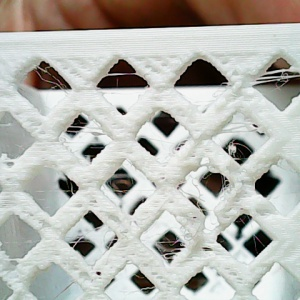3dpstringing: (210, 118, 273, 167), (134, 225, 202, 267), (59, 113, 116, 161), (217, 218, 273, 264), (62, 217, 119, 262), (22, 170, 83, 211), (186, 170, 235, 217), (101, 172, 160, 206), (29, 64, 83, 99), (135, 132, 190, 165), (104, 272, 165, 298), (100, 69, 148, 101), (37, 272, 86, 298), (249, 67, 298, 93), (195, 80, 234, 110)
3dpunderextrusion: (189, 204, 237, 239), (192, 135, 217, 173)
